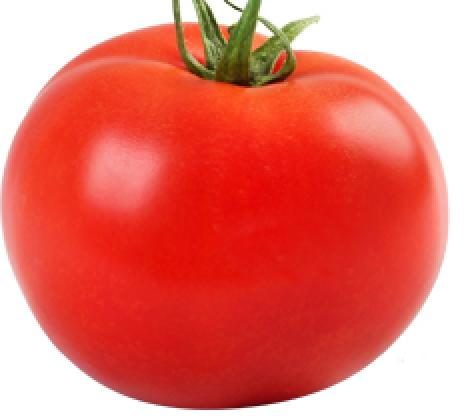tomato: (15, 21, 448, 407)
